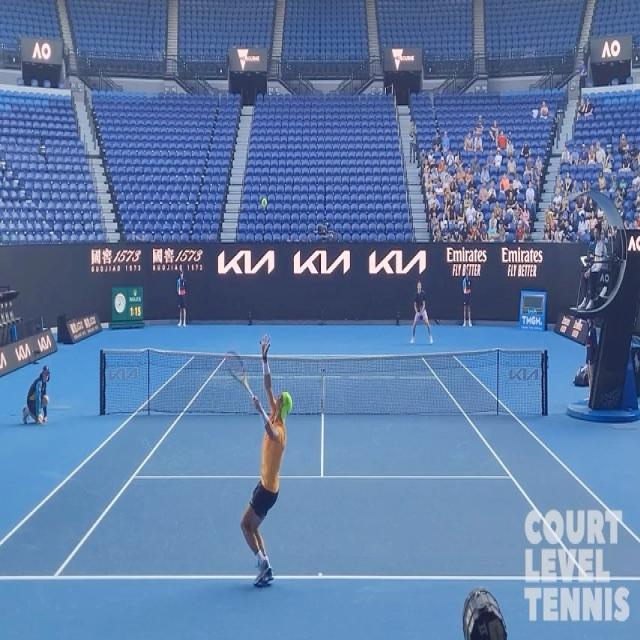serve_hit: (207, 332, 303, 605)
